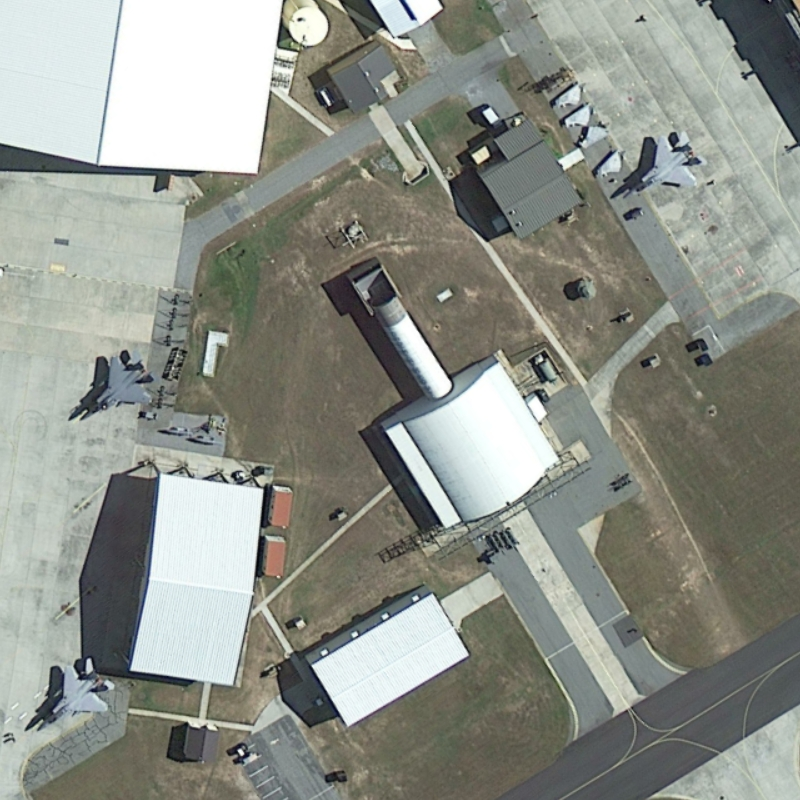A13: (65, 344, 162, 431), (615, 125, 710, 205), (30, 653, 122, 734)
